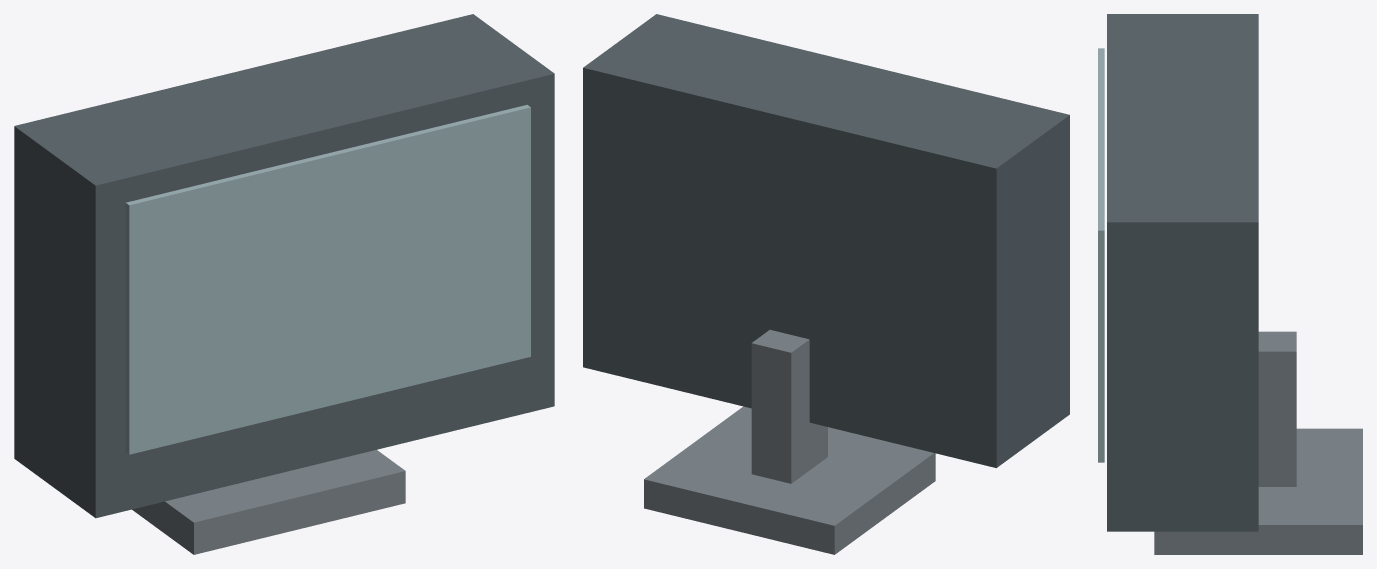
The picture shows the model from 3 angles, left to right: view 1: azimuth 30°, elevation 25°; view 2: azimuth 150°, elevation 25°; view 3: azimuth 270°, elevation 25°; orthographic projection. The views are drawn at different scales.
Visible parts, largest first — view 1: 000_Display_housing, 001_Screen, 003_Stand_base; view 2: 000_Display_housing, 003_Stand_base, 002_Stand_neck; view 3: 000_Display_housing, 003_Stand_base, 002_Stand_neck, 001_Screen.
Part boxes in pixels (box(x1,y1,x2,y2)): 000_Display_housing: box(14, 14, 554, 518); 001_Screen: box(125, 104, 530, 454); 003_Stand_base: box(132, 450, 405, 554); 000_Display_housing: box(583, 14, 1069, 467); 003_Stand_base: box(644, 406, 935, 554); 002_Stand_neck: box(751, 330, 827, 483); 000_Display_housing: box(1107, 14, 1258, 531); 003_Stand_base: box(1154, 428, 1362, 554); 002_Stand_neck: box(1258, 331, 1296, 486); 001_Screen: box(1098, 48, 1104, 462).
Size of the model in its own units: 0.52 by 0.4525 by 0.2795.
